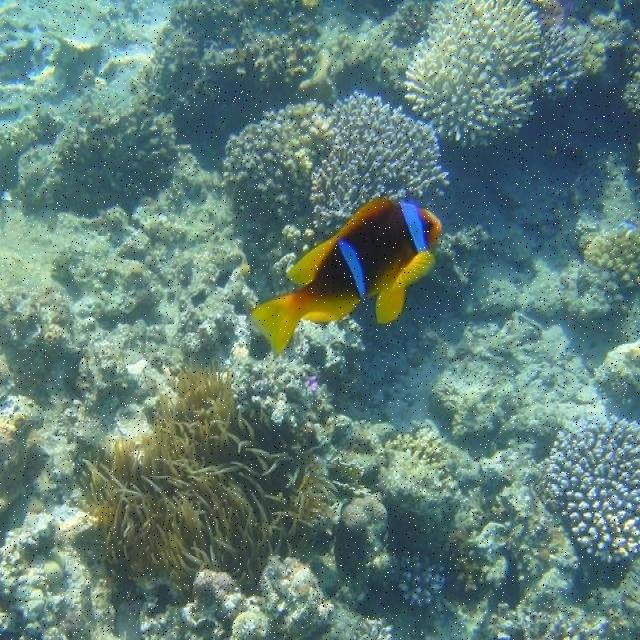fish: (245, 200, 441, 359)
reefs: (86, 363, 339, 600), (403, 1, 638, 148), (223, 91, 449, 234), (548, 415, 640, 562), (586, 229, 640, 286), (398, 550, 446, 606)
